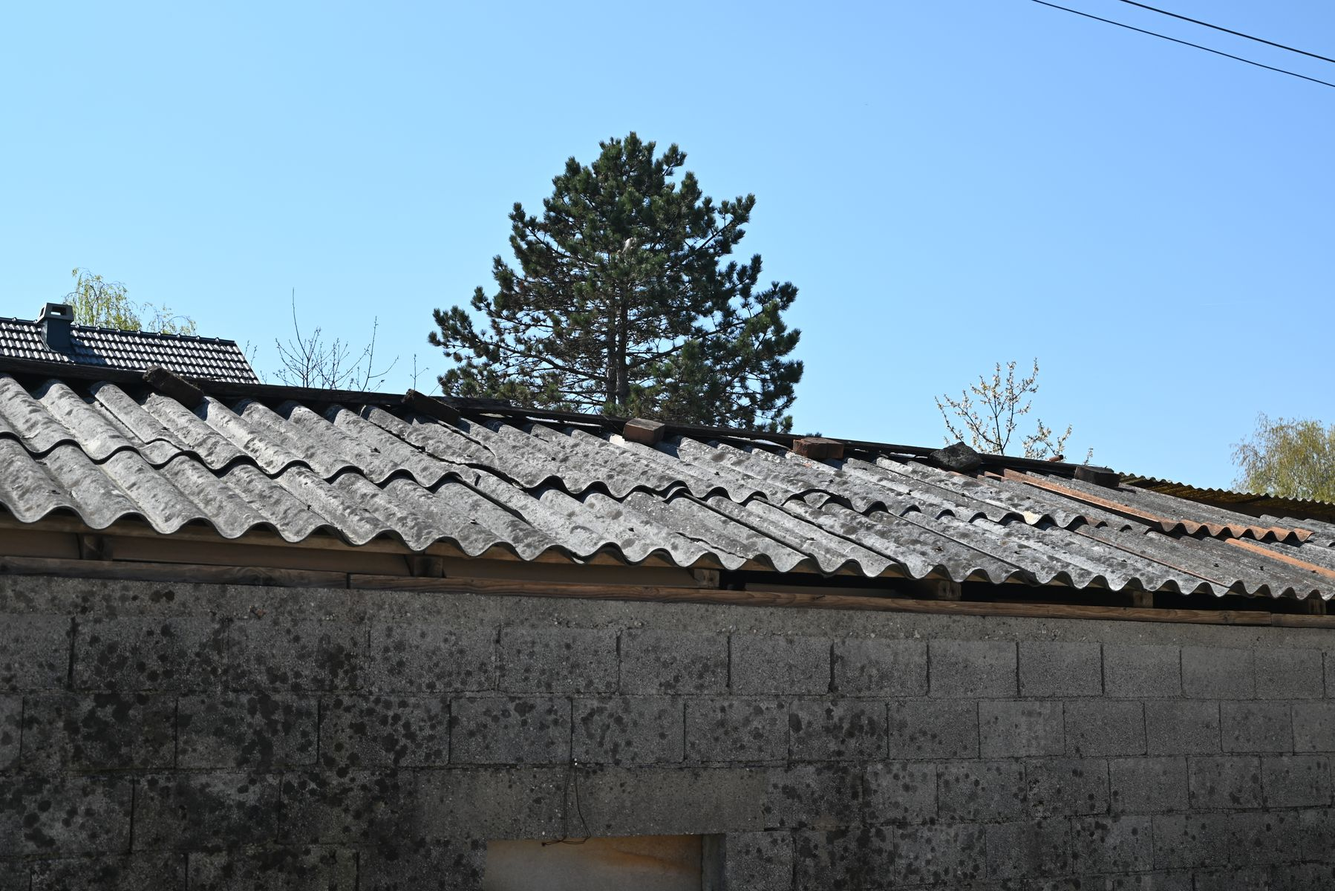thaumatopoea pityocampa jajno gnijezdo: (622, 237, 634, 251)
